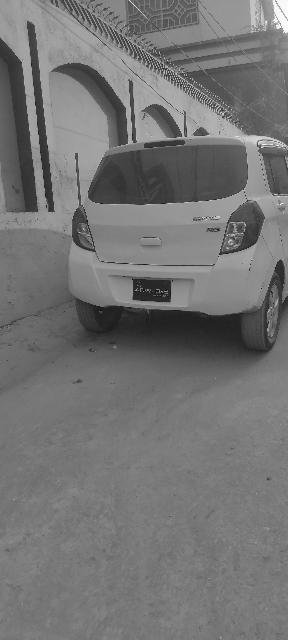Number: (134, 288, 169, 295)
